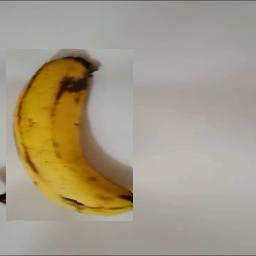Banana Semifresh: (6, 50, 133, 222)
